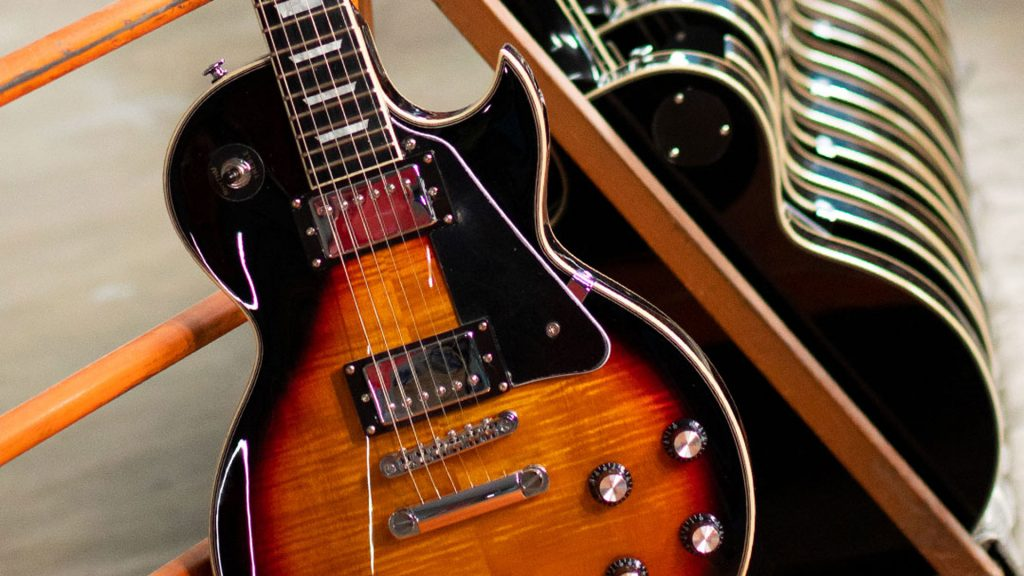guitar: (23, 2, 1017, 576), (155, 4, 777, 576)
